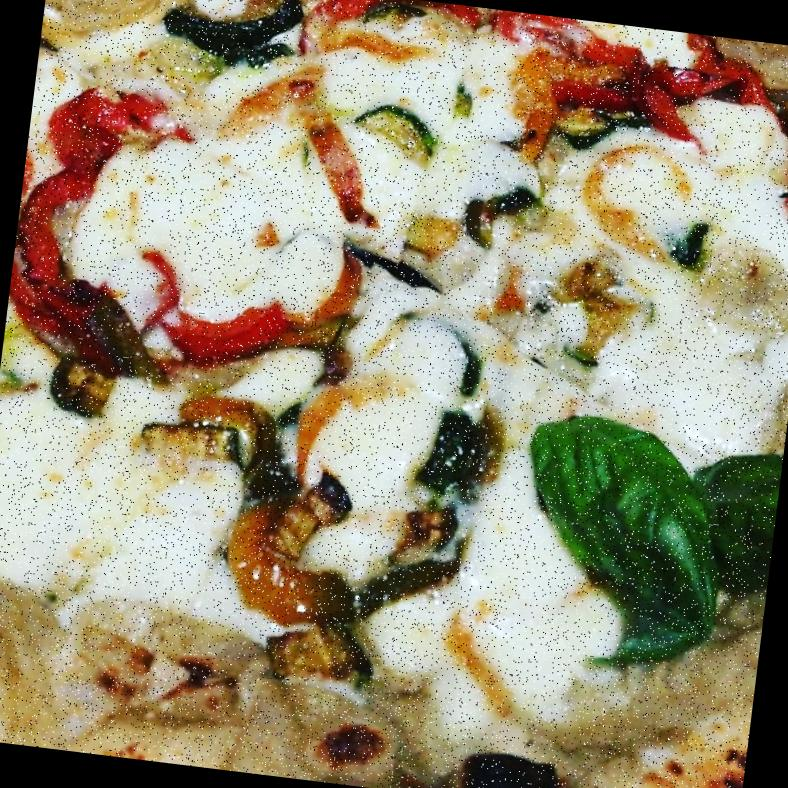Basil: (501, 408, 785, 686)
Cheese: (0, 439, 224, 608), (608, 329, 766, 436)
Peppers: (1, 76, 180, 377), (494, 11, 780, 152), (146, 270, 366, 396), (288, 0, 507, 84), (272, 74, 386, 226)
Pizza: (0, 0, 788, 788)
